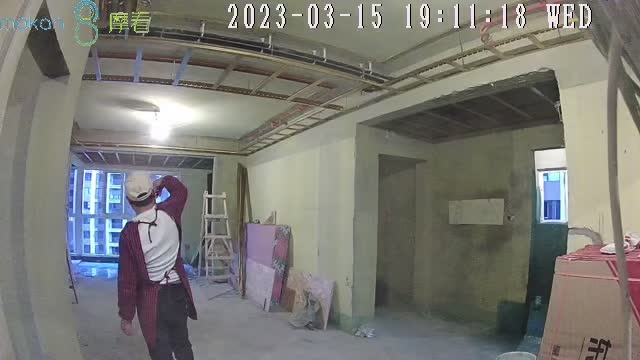people: (119, 171, 197, 360)
window: (70, 167, 179, 259)
